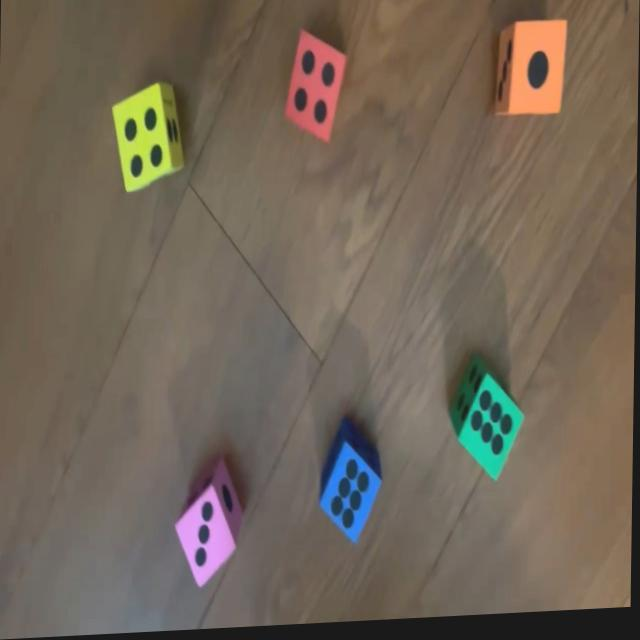cube: (451, 360, 527, 487), (318, 423, 382, 552), (284, 32, 345, 151)
